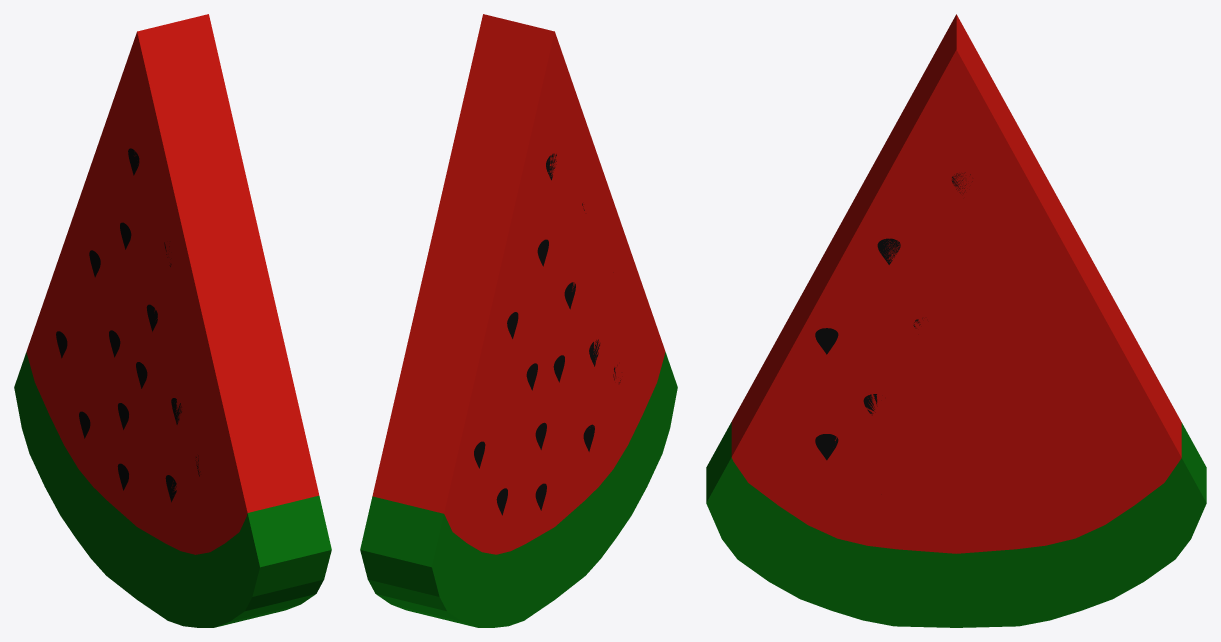
The model's file is WatermelonSliceObject.fbx.
3 renders of one model, left to right at view 1: azimuth 30°, elevation 25°; view 2: azimuth 150°, elevation 25°; view 3: azimuth 270°, elevation 25°, orthographic.
Visible parts, largest first — view 1: Cone.002; view 2: Cone.002; view 3: Cone.002.
Boxes of the visible parts, left/top/right/bottom form: Cone.002: left=14, top=14, right=331, bottom=627; Cone.002: left=360, top=14, right=677, bottom=627; Cone.002: left=706, top=14, right=1206, bottom=627.
Size of the model in its own units: 33.69 by 255 by 200.
